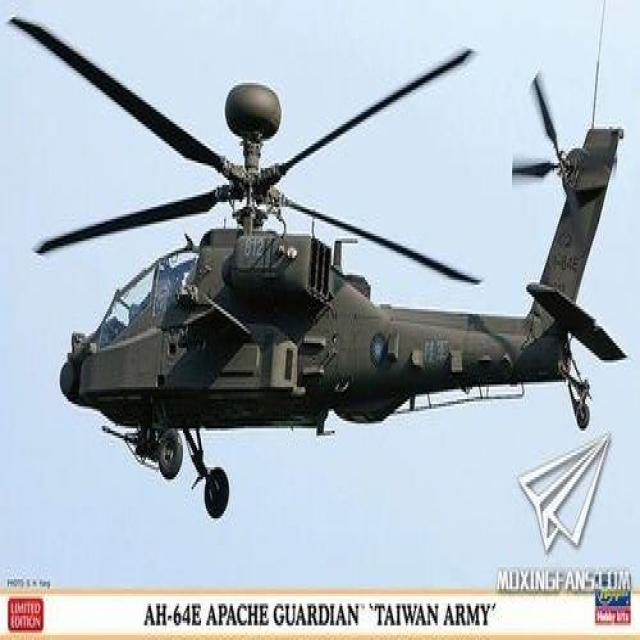MIL_HELO: (3, 17, 638, 518)
